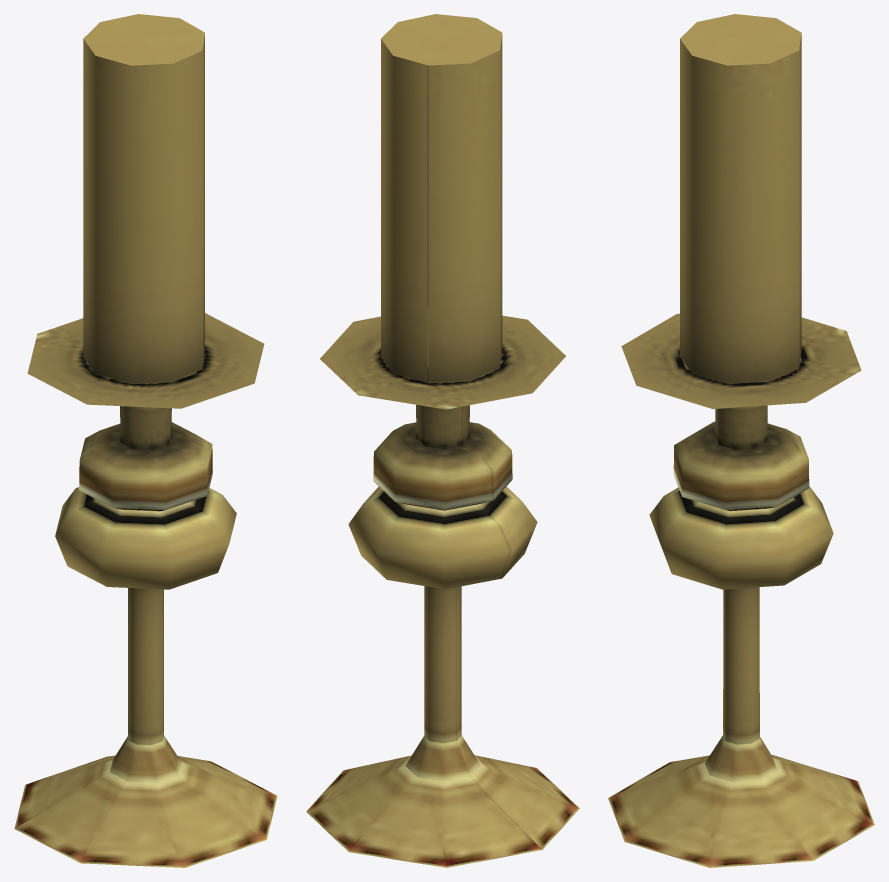
Rendered from Candle.FBX.
3 views of the same model, side by side, from view 1: azimuth 30°, elevation 25°; view 2: azimuth 150°, elevation 25°; view 3: azimuth 270°, elevation 25° (orthographic).
Visible parts, largest first — view 1: Candle; view 2: Candle; view 3: Candle.
Boxes of the visible parts, box(x1,y1,x2,y2) form: Candle: box(14, 14, 277, 867); Candle: box(306, 14, 579, 867); Candle: box(608, 14, 874, 867).
Bounding box in the file's own units: 11.66 × 37.19 × 11.66.
